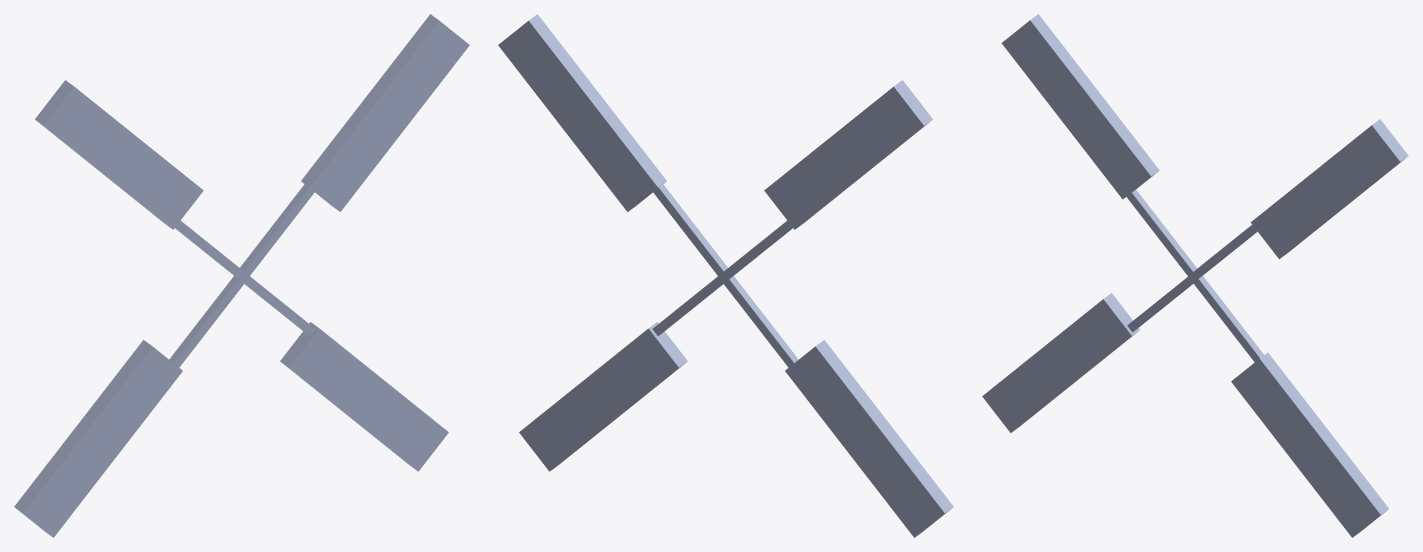
File: leaf.gltf
The picture shows the model from 3 angles, left to right: view 1: azimuth 30°, elevation 25°; view 2: azimuth 150°, elevation 25°; view 3: azimuth 330°, elevation 25°; orthographic projection. The views are drawn at different scales.
Parts seen in each view (by area): view 1: 立方體.008, 立方體.004, 立方體.010, 立方體.006, 立方體.003, 立方體.007, 立方體.005, 立方體.009; view 2: 立方體.008, 立方體.004, 立方體.010, 立方體.006, 立方體.007, 立方體.003, 立方體.005, 立方體.009; view 3: 立方體.006, 立方體.010, 立方體.004, 立方體.008, 立方體.009, 立方體.005, 立方體.003, 立方體.007.
Boxes of the visible parts, x1,y1,x2,y2 form: 立方體.008: [14, 340, 182, 537]; 立方體.004: [301, 14, 469, 211]; 立方體.010: [35, 80, 203, 229]; 立方體.006: [280, 322, 448, 471]; 立方體.003: [234, 184, 314, 283]; 立方體.007: [169, 276, 243, 367]; 立方體.005: [244, 276, 315, 335]; 立方體.009: [175, 220, 243, 278]; 立方體.008: [785, 340, 953, 537]; 立方體.004: [498, 14, 666, 211]; 立方體.010: [764, 80, 932, 229]; 立方體.006: [519, 322, 687, 471]; 立方體.007: [718, 272, 798, 367]; 立方體.003: [653, 184, 733, 278]; 立方體.005: [652, 276, 723, 335]; 立方體.009: [723, 220, 792, 278]; 立方體.006: [1231, 352, 1388, 537]; 立方體.010: [1001, 14, 1159, 199]; 立方體.004: [1251, 119, 1408, 259]; 立方體.008: [982, 293, 1139, 432]; 立方體.009: [1126, 189, 1196, 275]; 立方體.005: [1193, 276, 1263, 362]; 立方體.003: [1188, 225, 1257, 282]; 立方體.007: [1127, 276, 1202, 332].
Size of the model in its own units: 11.65 by 11.69 by 0.4067.
